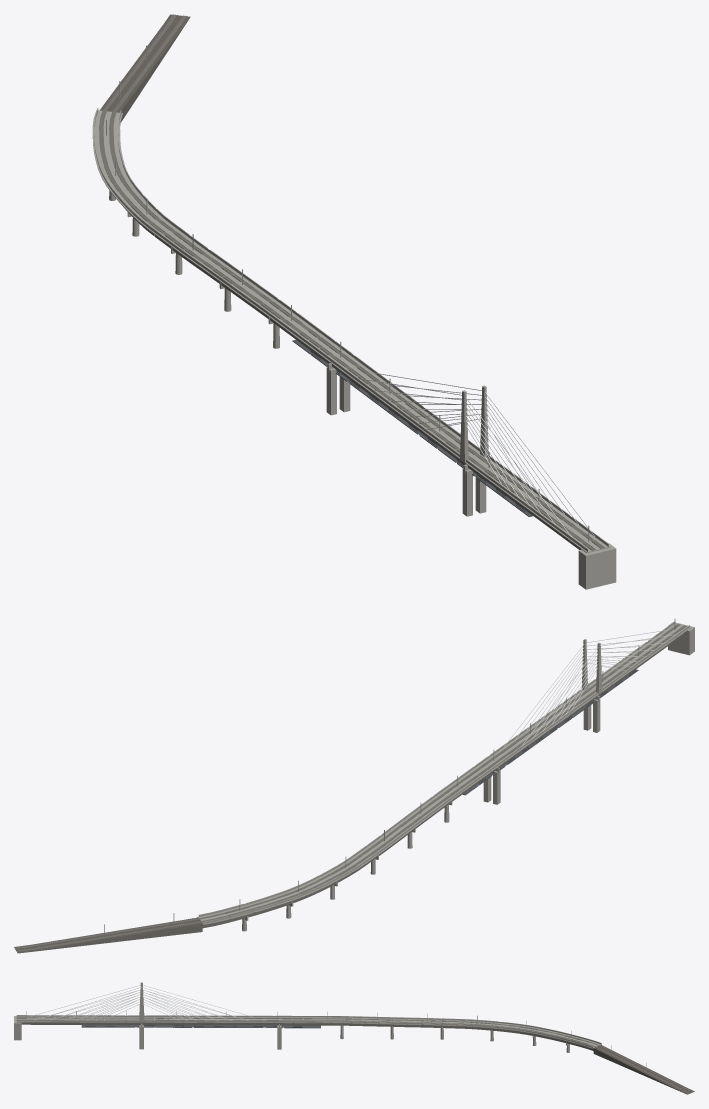
Rendered from br_r14_tawatina_lod1.gltf.
3 renders of one model, top to bottom at view 1: azimuth 30°, elevation 25°; view 2: azimuth 150°, elevation 25°; view 3: azimuth 270°, elevation 25°, orthographic. The views are drawn at different scales.
Visible parts, largest first — view 1: br_r14_tawatina_lod1; view 2: br_r14_tawatina_lod1; view 3: br_r14_tawatina_lod1.
Boxes of the visible parts, box(x1,y1,x2,y2) form: br_r14_tawatina_lod1: box(92, 14, 616, 589); br_r14_tawatina_lod1: box(14, 619, 694, 953); br_r14_tawatina_lod1: box(14, 982, 694, 1094).
Size of the model in its own units: 128 by 54.6 by 544.
